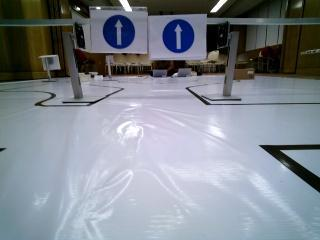straight: (89, 4, 148, 53), (146, 15, 204, 60)
